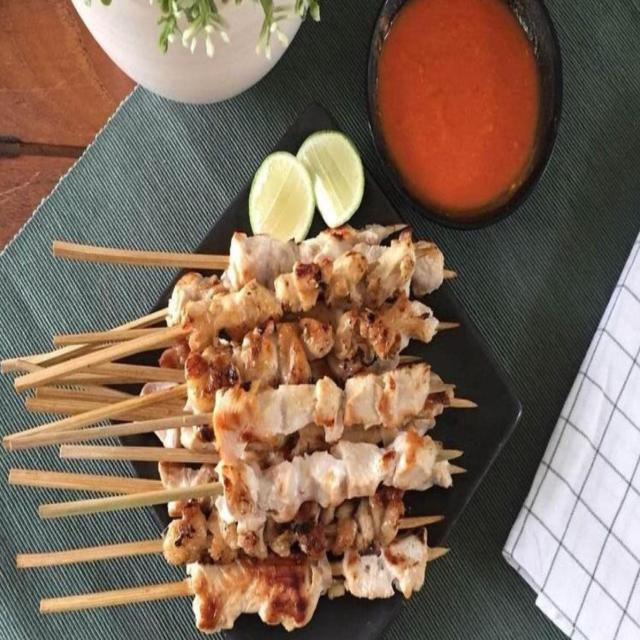Sate: (0, 202, 520, 639)
